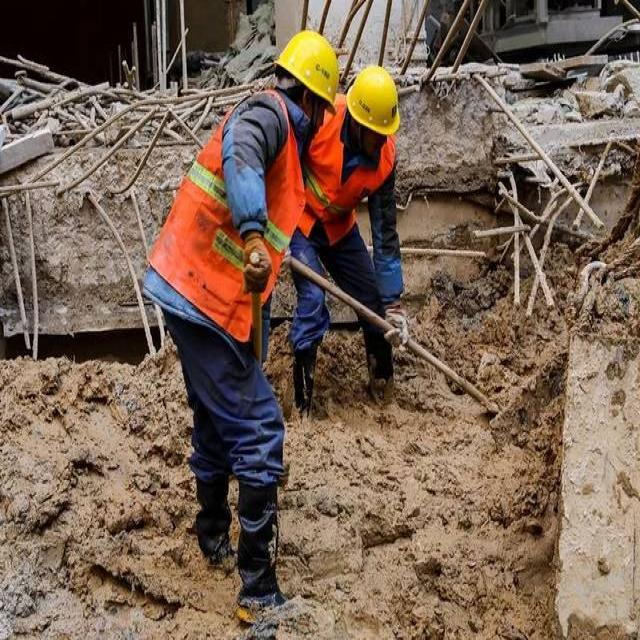Reflective-Jacket: (147, 90, 300, 344), (300, 104, 388, 243)
Safety-Helmet: (272, 25, 341, 112), (345, 63, 401, 137)
